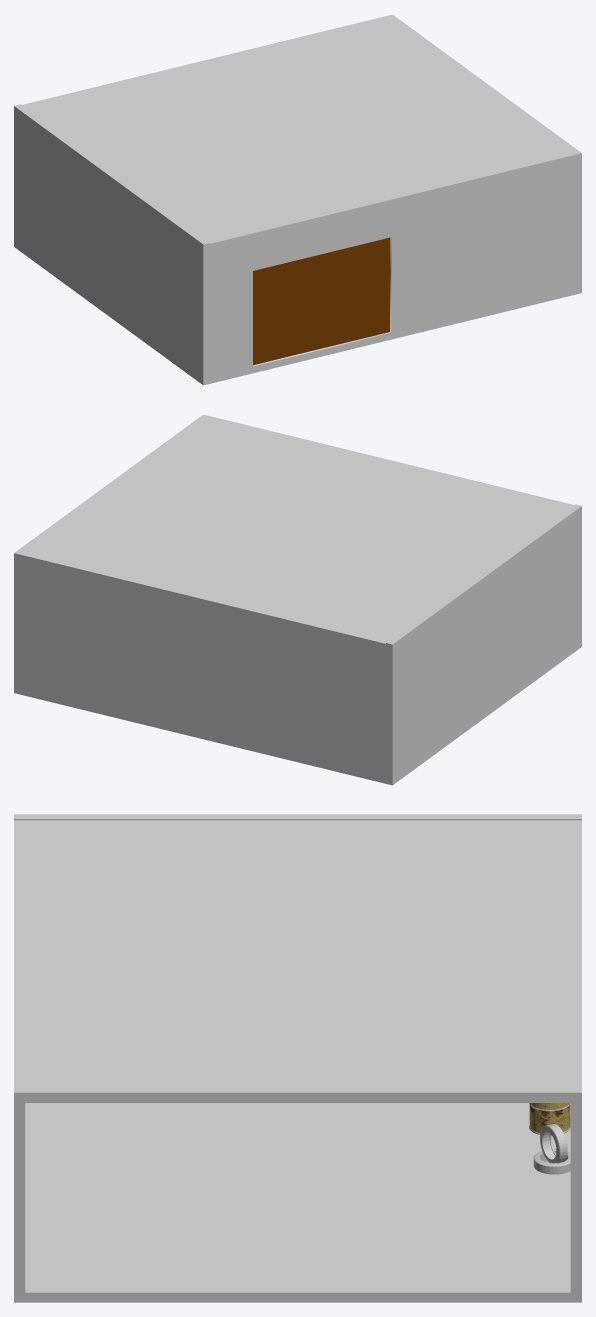
The model's file is Main Menu EXPEREMENTAL.fbx.
3 renders of one model, top to bottom at view 1: azimuth 30°, elevation 25°; view 2: azimuth 150°, elevation 25°; view 3: azimuth 270°, elevation 25°, orthographic. The views are drawn at different scales.
Visible parts, largest first — view 1: Garage, Door.001; view 2: Garage; view 3: Garage, Tire 1, Barrel.001.
Part boxes in pixels (bbox=[...]): Garage: bbox=[14, 14, 581, 385]; Door.001: bbox=[253, 237, 389, 365]; Garage: bbox=[14, 414, 581, 785]; Garage: bbox=[14, 814, 581, 1302]; Tire 1: bbox=[533, 1124, 570, 1174]; Barrel.001: bbox=[529, 1103, 570, 1135].
Size of the model in its own units: 11653 by 4146 by 10096.
